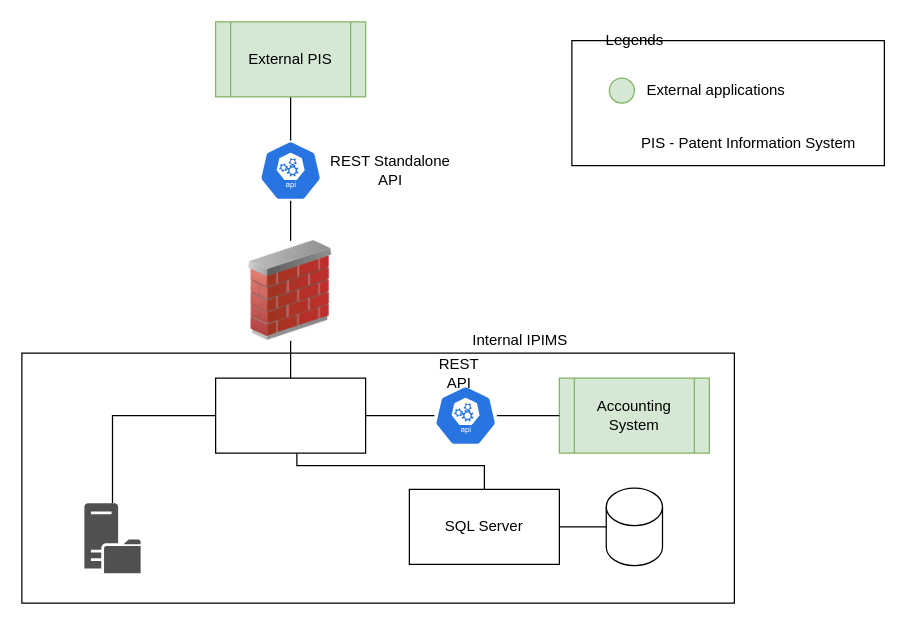
The diagram is 906 pixels wide and 625 high, and some of its shapes have lost their labels. Each missing label, with the box of its shape:
DB: (605, 487, 662, 566)
IIS Server: (214, 377, 366, 453)
